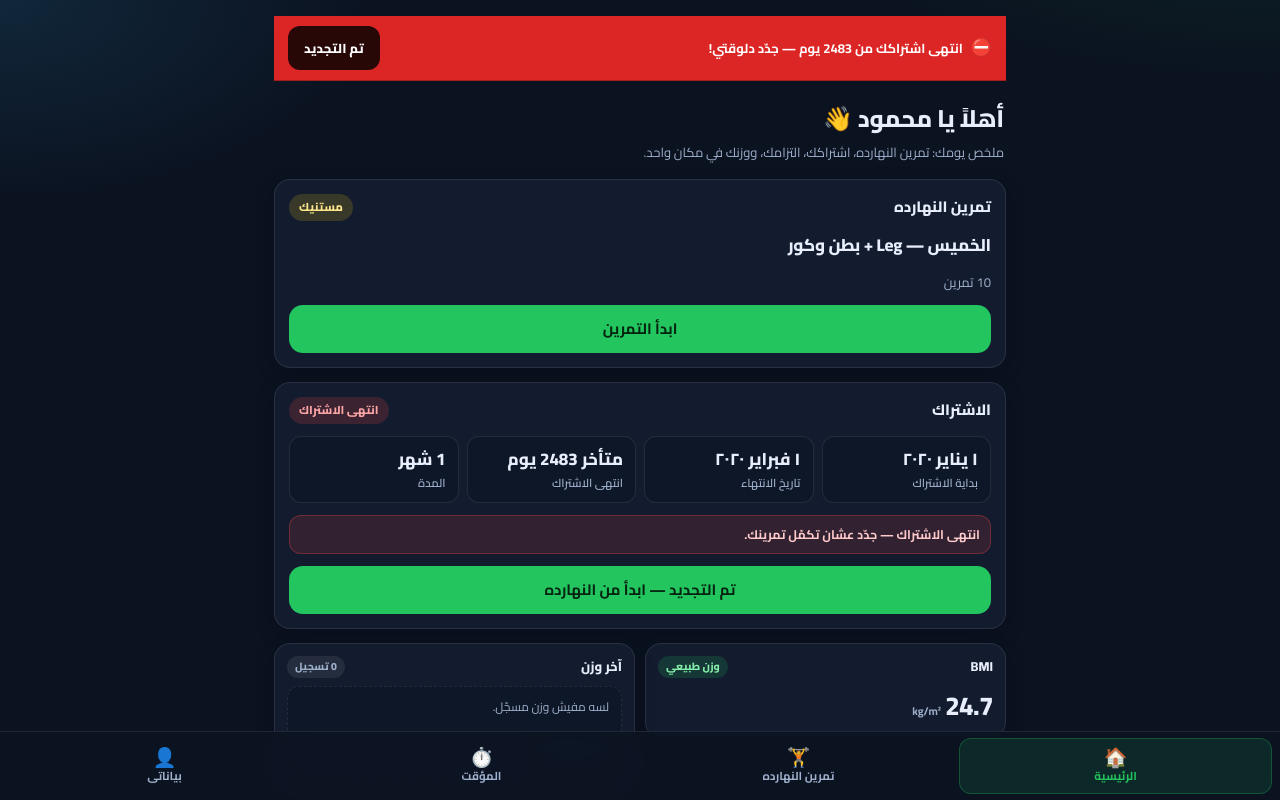
Test: App navigation › shows the renewal banner on Home only, never on the other pages
Click the link "👤 بياناتي": (165, 763) [147,739,182,787]
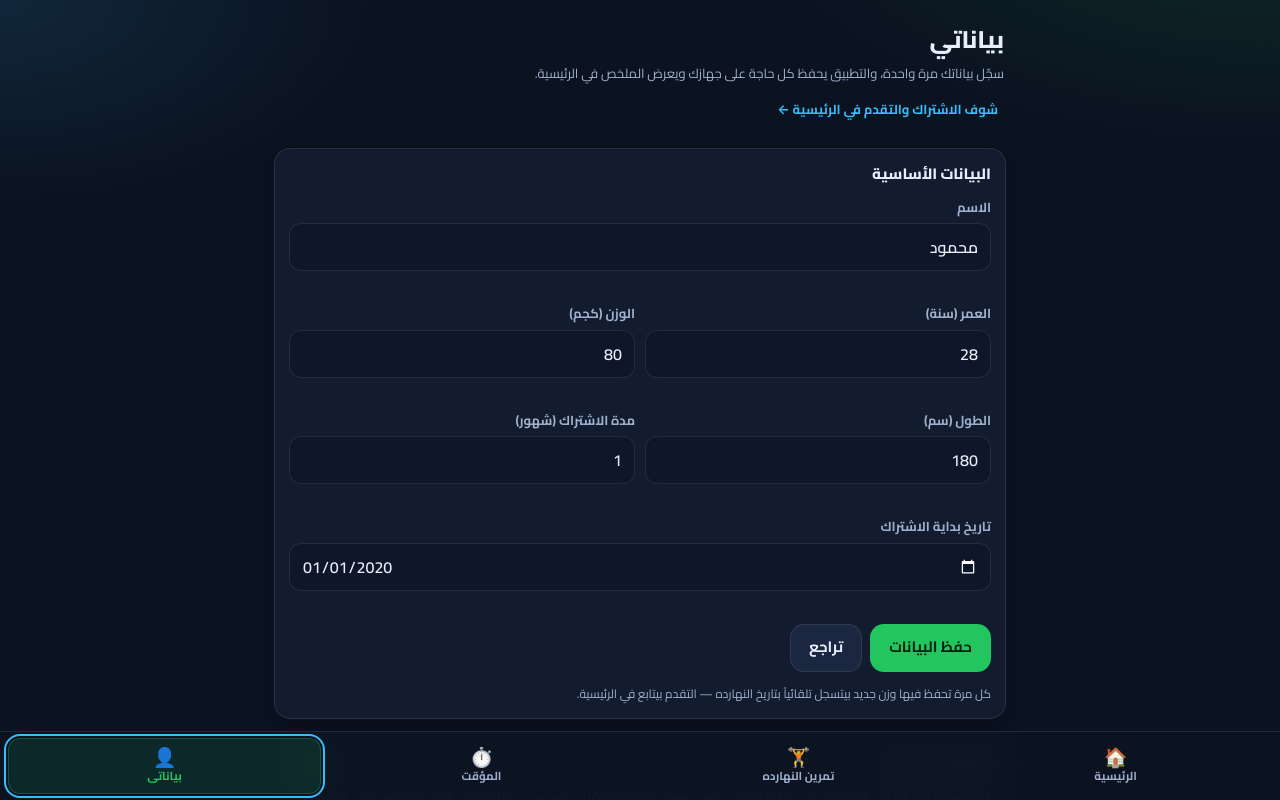
Expected: the heading "بياناتي" is shown, [929,17,1004,62]
Expected: the message with test id "renewal-banner" is gone
Click the link "🏋️ تمرين النهارده": (799, 763) [763,739,834,787]
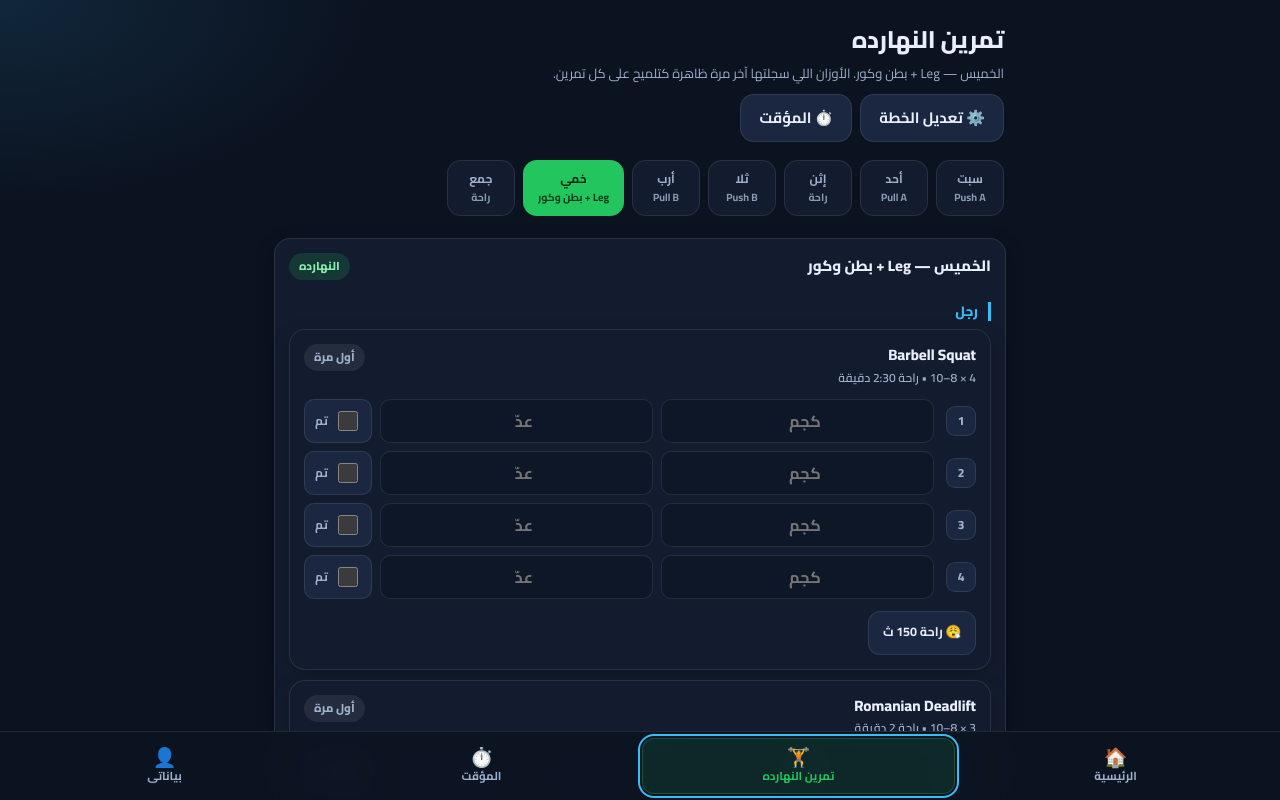
Expected: the heading "تمرين النهارده" is shown, [852,17,1004,62]
Click the link "⏱️ المؤقت" next to "بياناتي": (482, 763) [462,739,501,787]
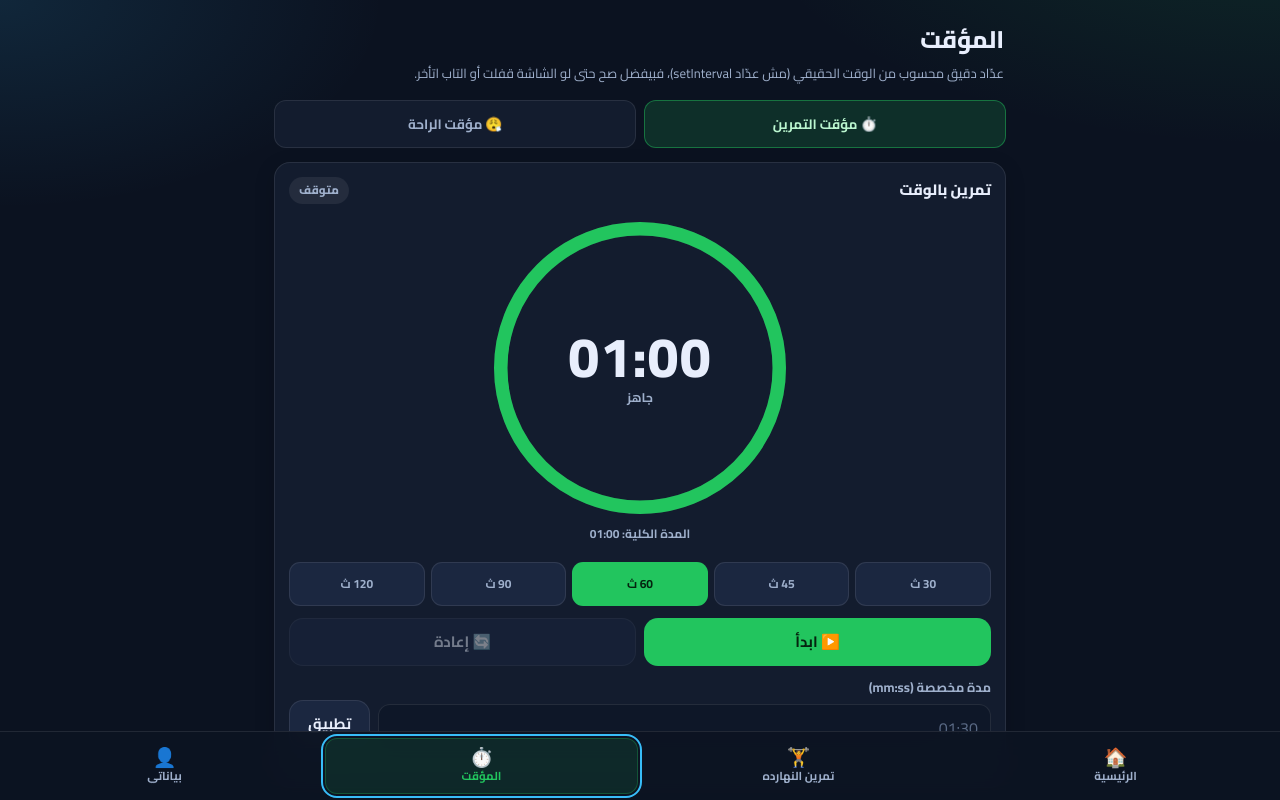
Expected: the heading "المؤقت" is shown, [920,17,1004,62]
// محرر الخطة كمان من غير بانر
Click the link "🏋️ تمرين النهارده": (799, 763) [763,739,834,787]
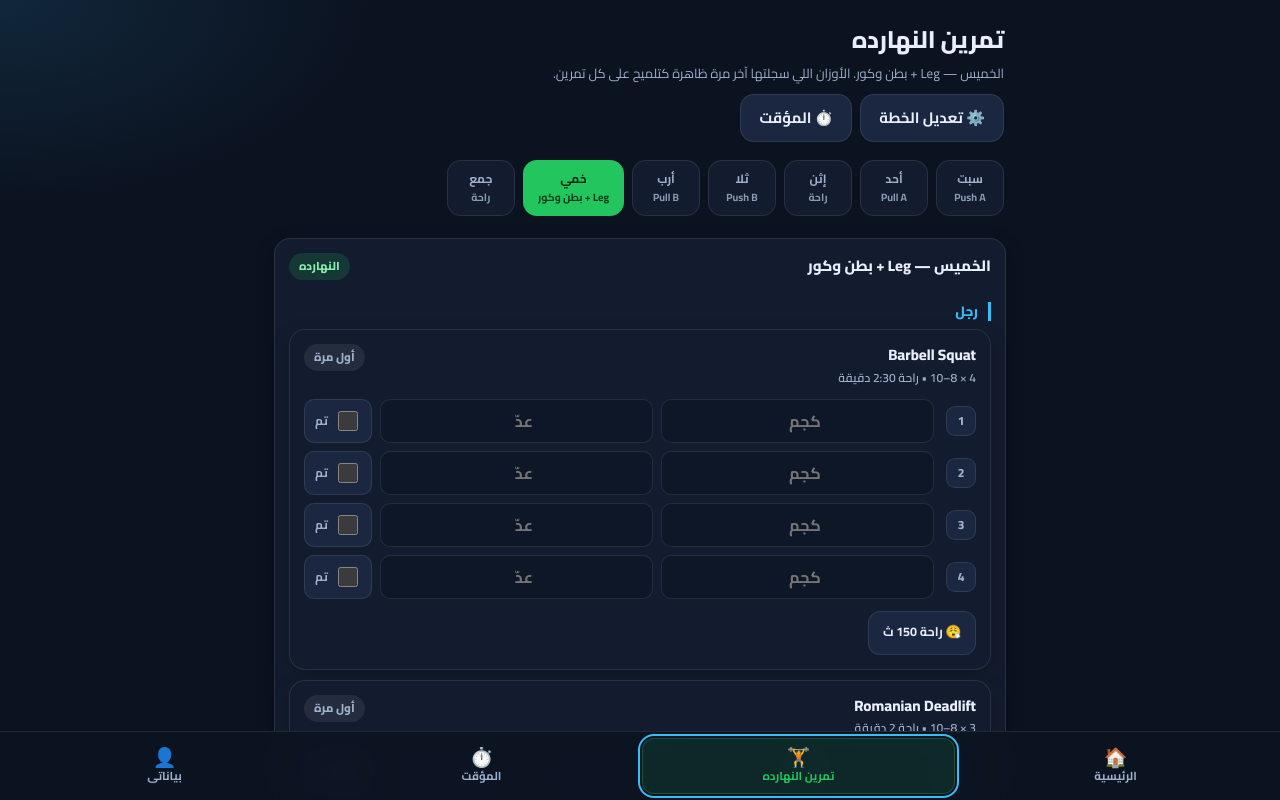
Click the link "⚙️ تعديل الخطة": (932, 118) [860,94,1004,142]
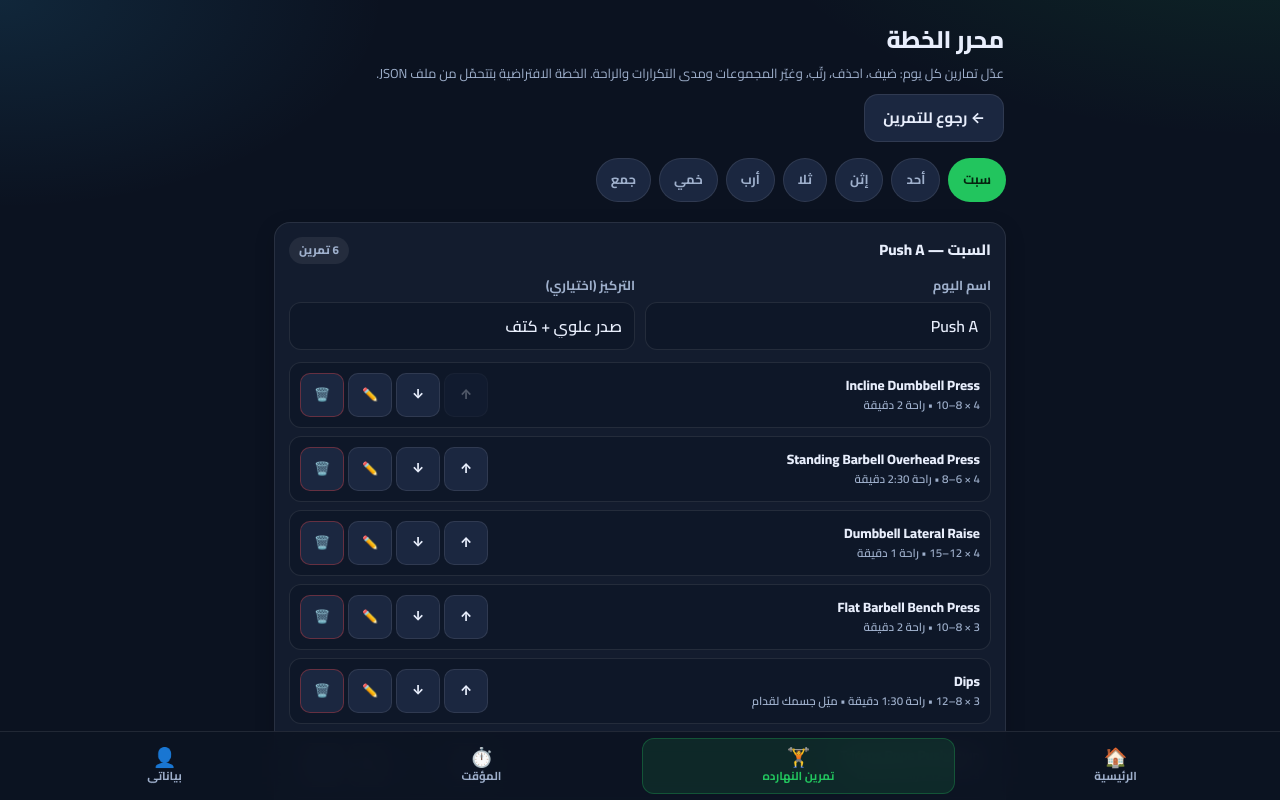
Expected: the heading "محرر الخطة" is shown, [886,17,1004,62]
// والرئيسية بس اللي فيها البانر
Click the link "🏠 الرئيسية": (1116, 763) [1094,739,1137,787]
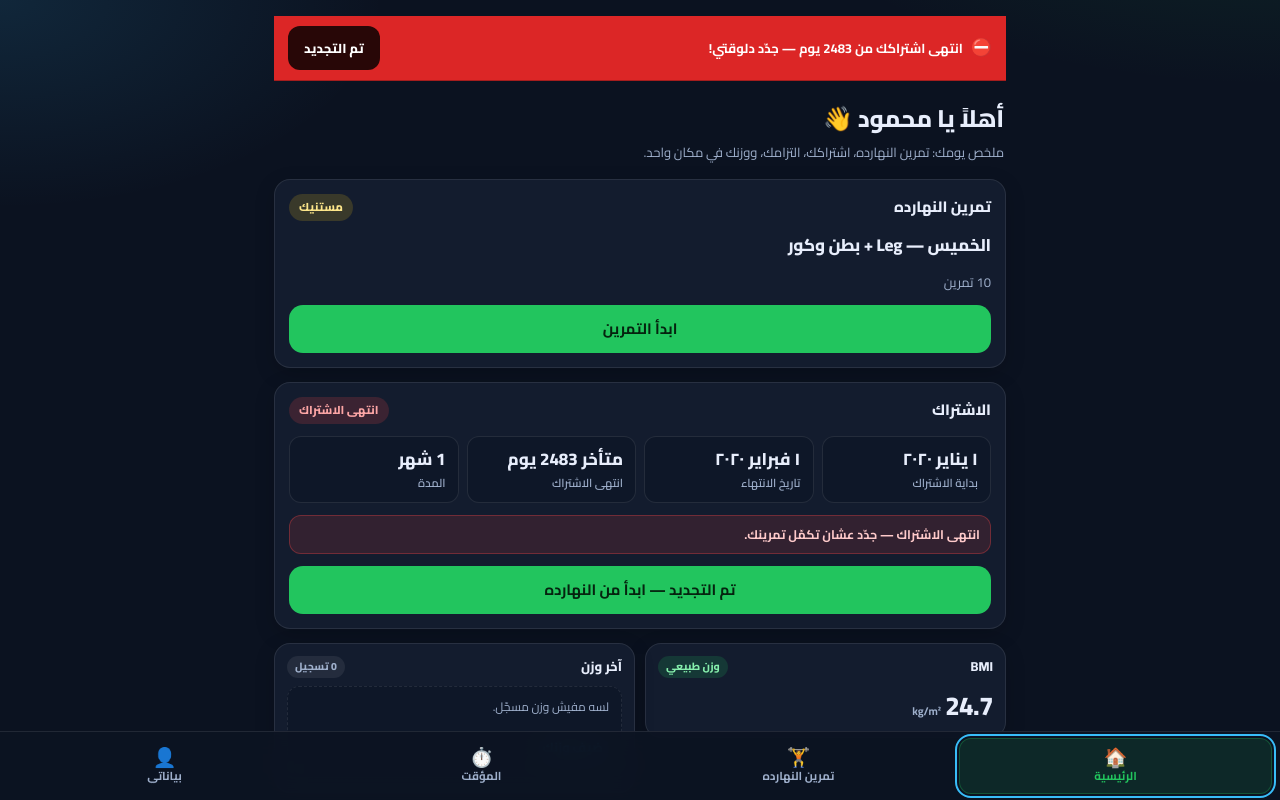
Expected: the heading "أهلاً يا محمود 👋" is shown, [823,96,1004,141]
Expected: the message "⛔ انتهى اشتراكك من 2483 يوم — جدّد دلوقتي! تم التجديد" is shown, [274,16,1006,81]
